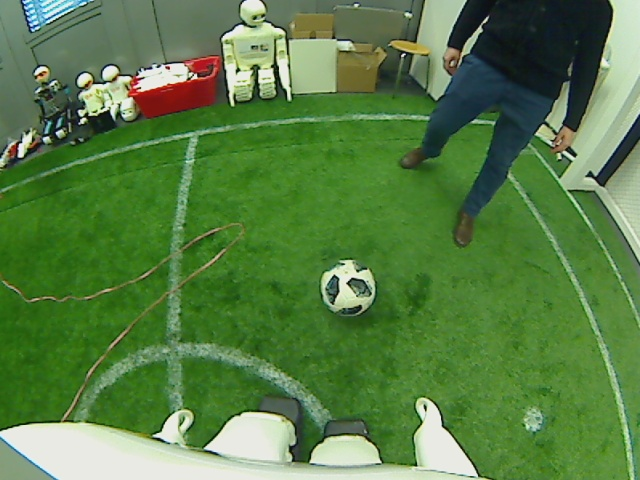ball: (319, 260, 375, 316)
